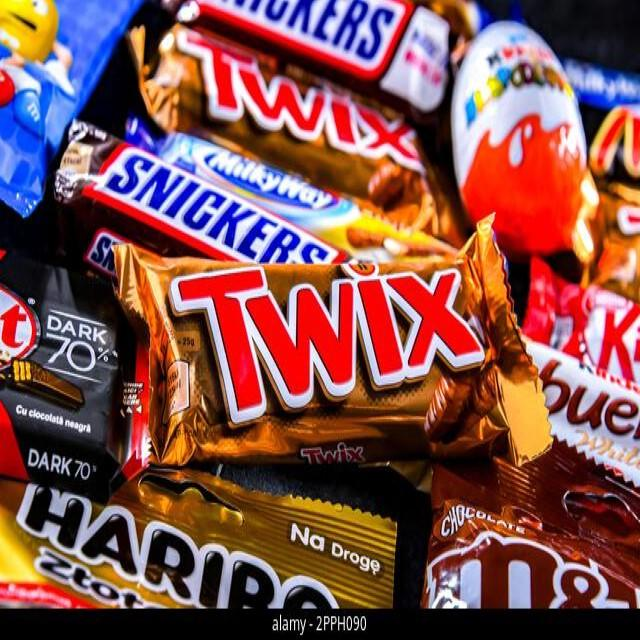mars_chocolate: (65, 138, 310, 275)
